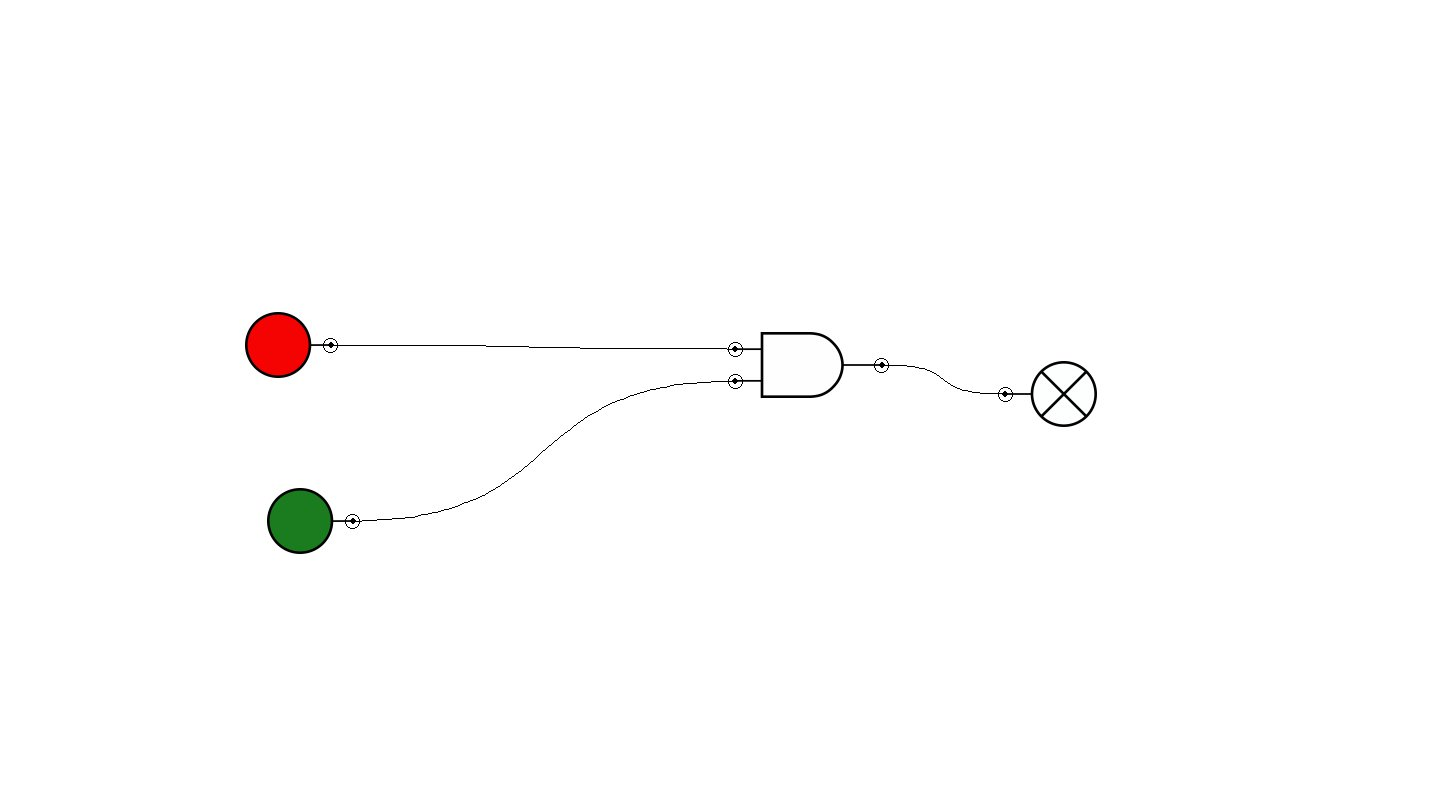and: (728, 332, 889, 398)
bulb: (998, 361, 1097, 427)
switch_False: (245, 312, 338, 378)
switch_True: (267, 488, 360, 554)
